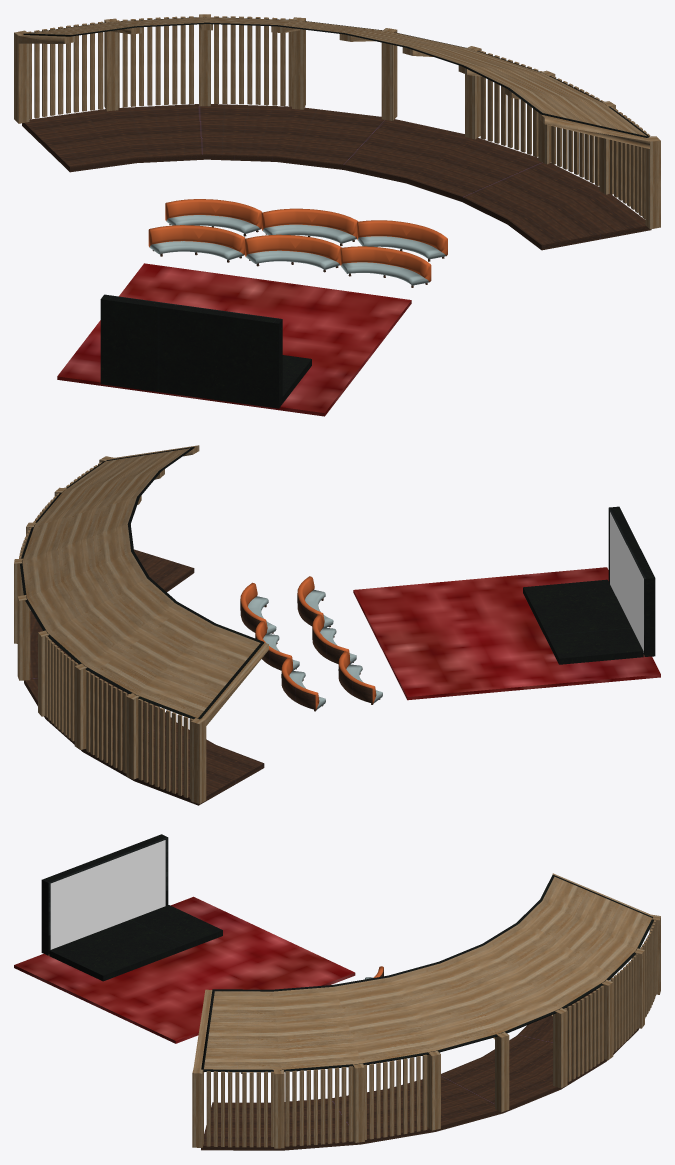
Rendered from Beach setup.fbx.
3 renders of one model, top to bottom at view 1: azimuth 30°, elevation 25°; view 2: azimuth 150°, elevation 25°; view 3: azimuth 270°, elevation 25°, orthographic. The views are drawn at different scales.
Parts seen in each view (by area): view 1: MeshBaker__1__mesh_mesh; view 2: MeshBaker__1__mesh_mesh; view 3: MeshBaker__1__mesh_mesh.
Part boxes in pixels (x1,y1,x2,y2): MeshBaker__1__mesh_mesh: [14, 14, 660, 416]; MeshBaker__1__mesh_mesh: [14, 445, 660, 805]; MeshBaker__1__mesh_mesh: [14, 834, 660, 1150].
Size of the model in its own units: 3071 by 667 by 3306.
